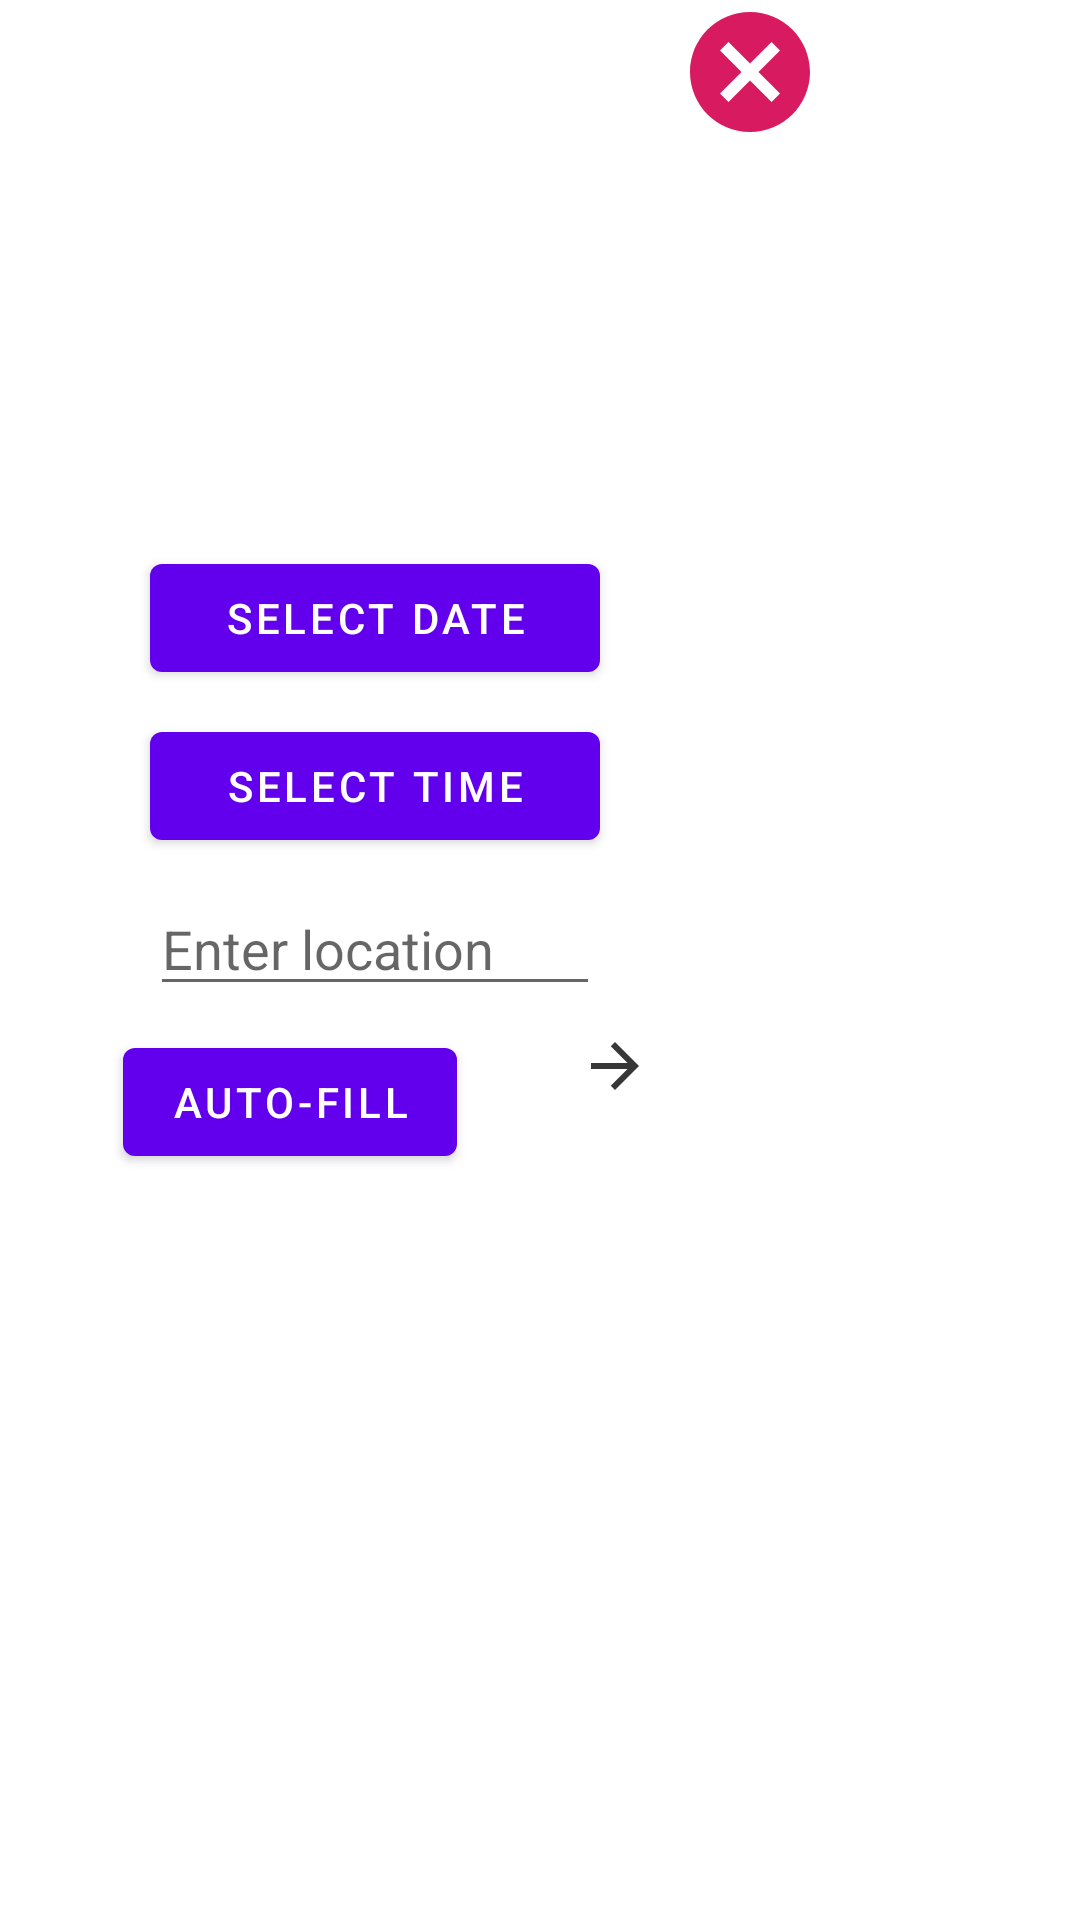

Named icons in this screenshot (1080*1920) and their centers, (x,y):
Cancel Image Add: (750,72)
Next Screen button: (615,1066)
